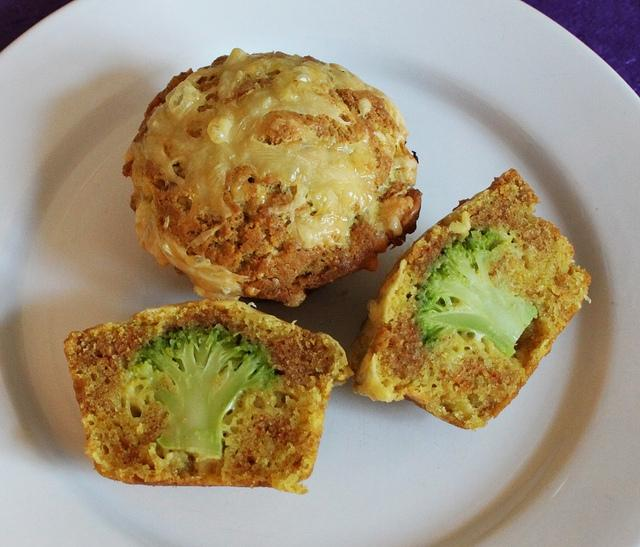broccoli: (136, 325, 278, 462), (417, 230, 538, 356)
